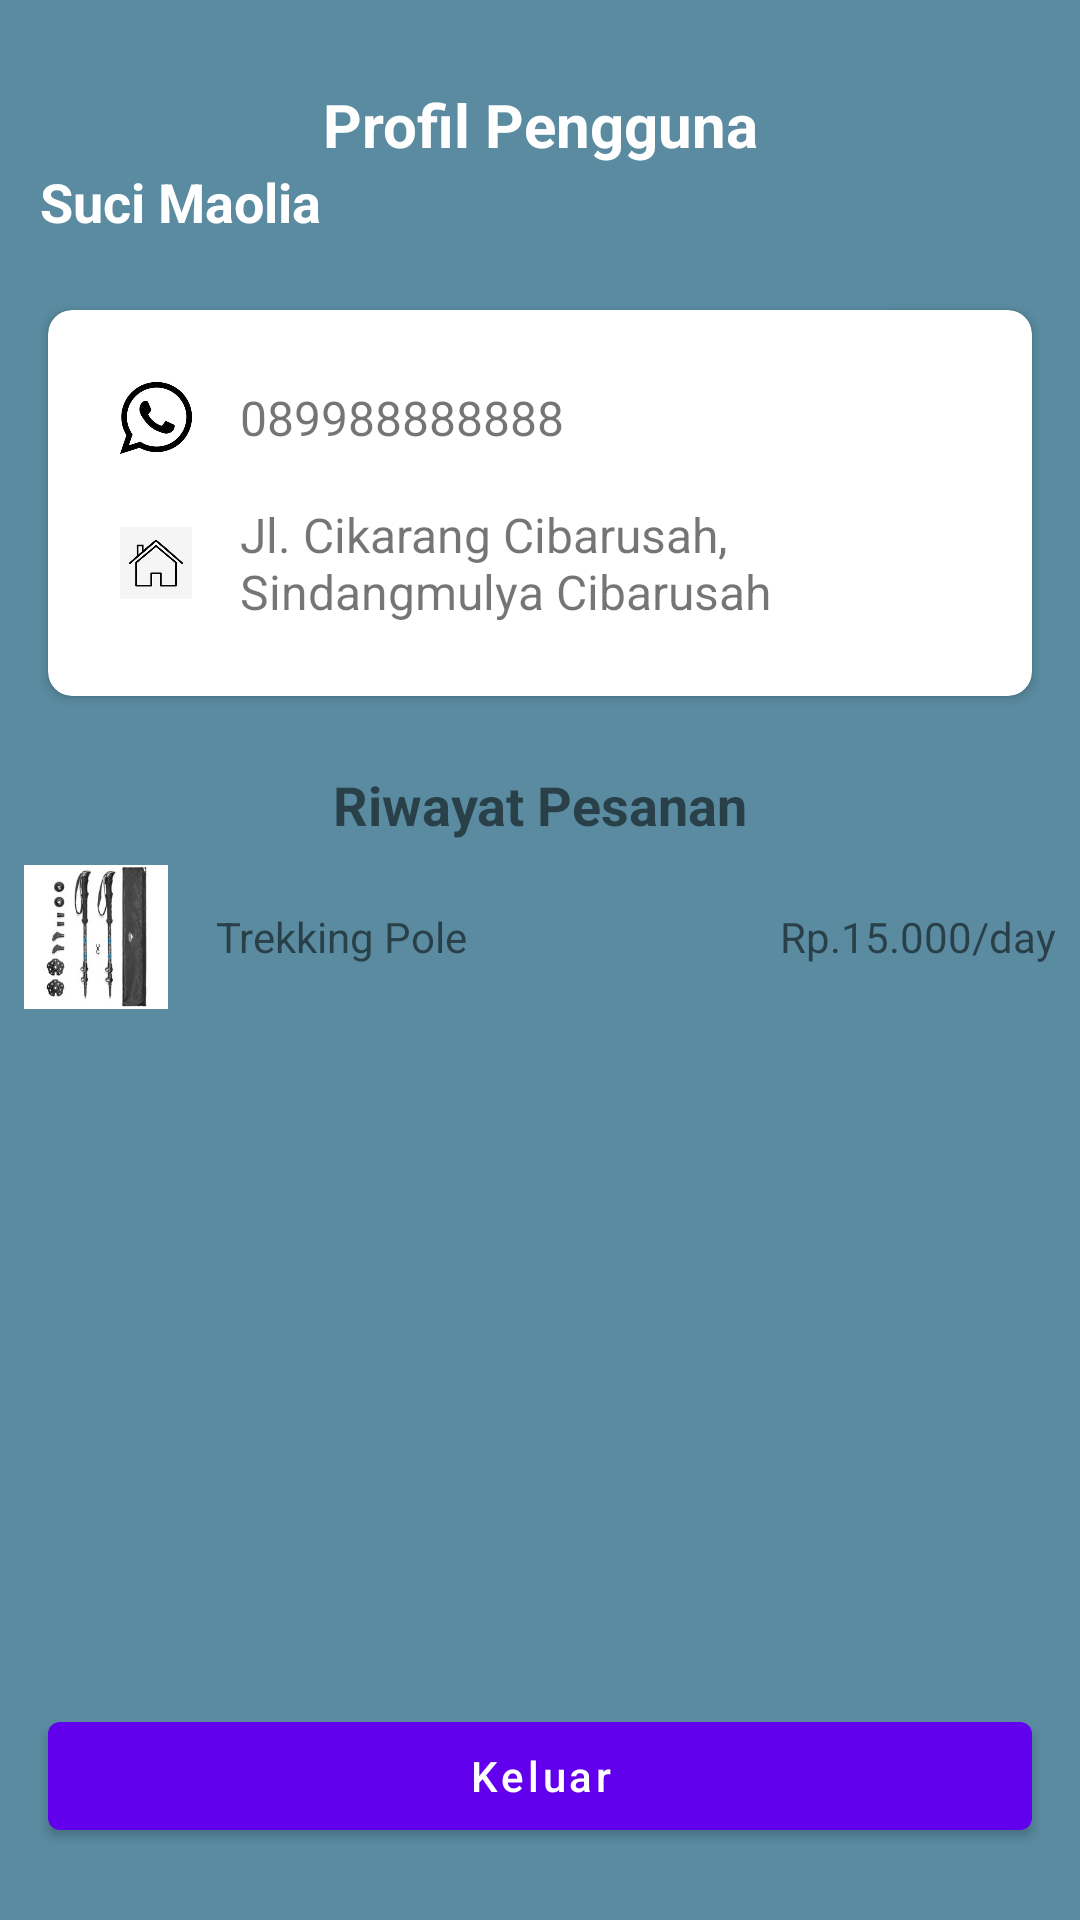

Screen size 1080×1920. Icon name, then its box in pixels as (x1, y1, x2, y2):
home: (120, 527, 192, 599)
